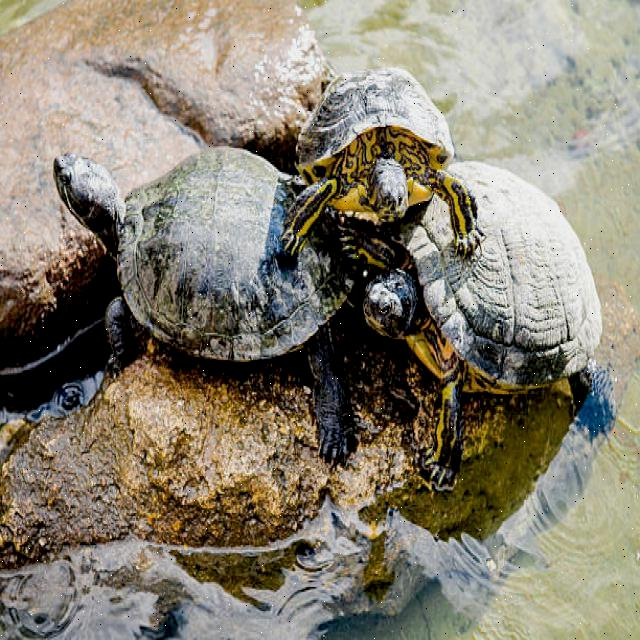tortoise: (357, 170, 611, 452), (48, 150, 328, 382), (279, 65, 475, 257)
